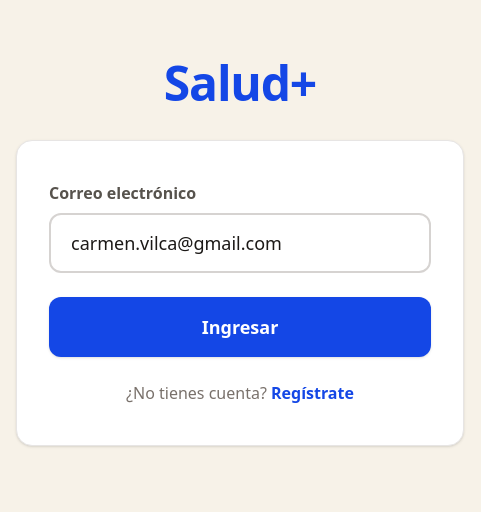
it: Login de paciente › muestra error cuando el correo no existe
Replace the text in the field with "no.existe@example.com" at (240, 243), box [49, 213, 431, 273]
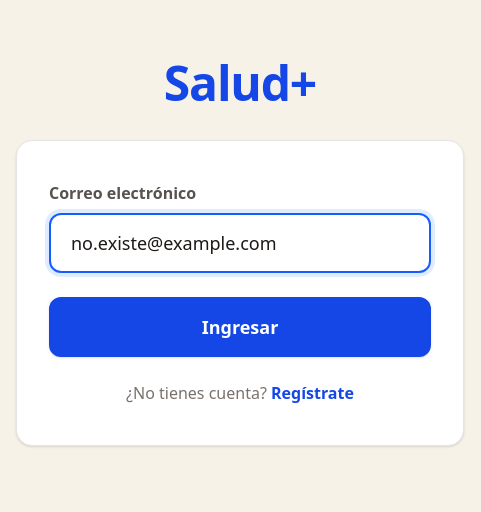
Click the button "Ingresar".
click(240, 327)  # box [49, 297, 431, 357]
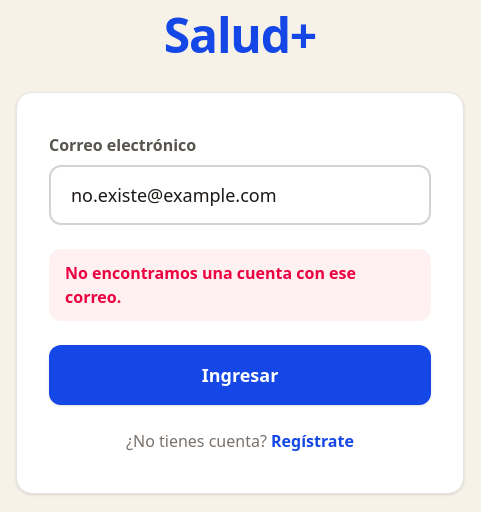
Expected: the text "No encontramos una cuenta con ese correo." is shown, [49, 248, 431, 320]
